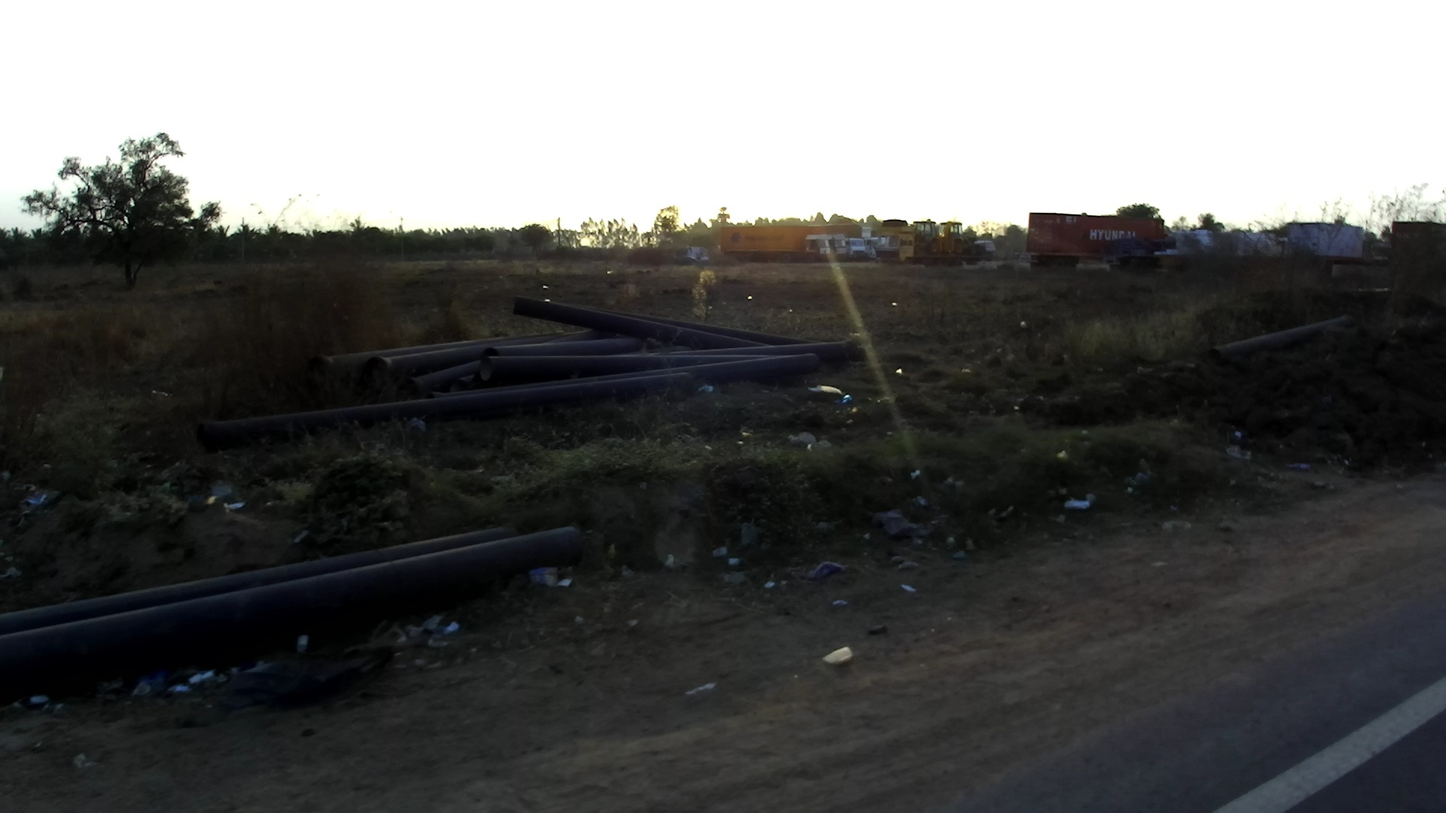truck: (715, 223, 832, 265), (810, 222, 865, 262), (825, 232, 854, 263), (856, 224, 874, 263)
vehicle fallback: (1025, 209, 1179, 279), (933, 216, 972, 269), (871, 221, 914, 266), (910, 221, 934, 266), (968, 239, 998, 271)
